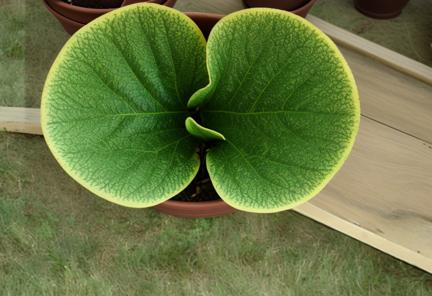pottedplant: (25, 1, 432, 218)
